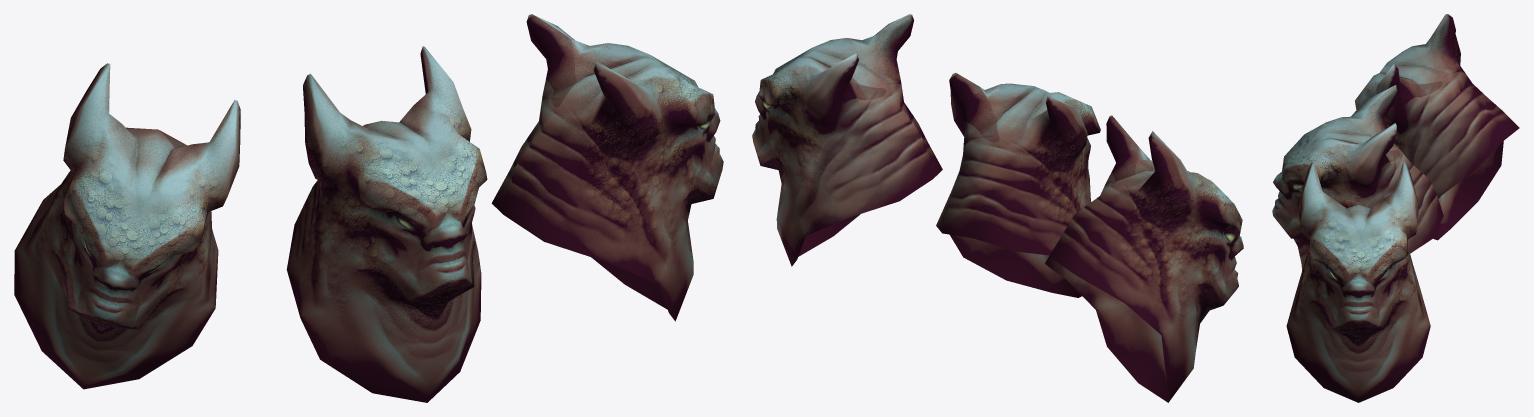
Rendered from ORCO1.fbx.
3 renders of one model, left to right at view 1: azimuth 30°, elevation 25°; view 2: azimuth 150°, elevation 25°; view 3: azimuth 270°, elevation 25°, orthographic. The views are drawn at different scales.
Visible parts, largest first — view 1: Plane.001, Plane.003, Plane.002; view 2: Plane.003, Plane.002, Plane.001; view 3: Plane.002, Plane.003, Plane.001.
Boxes of the visible parts, left/top/right/bottom form: Plane.001: left=286, top=46, right=487, bottom=402; Plane.003: left=14, top=63, right=240, bottom=389; Plane.002: left=491, top=14, right=723, bottom=321; Plane.003: left=1045, top=115, right=1243, bottom=402; Plane.002: left=752, top=14, right=942, bottom=266; Plane.001: left=936, top=72, right=1100, bottom=297; Plane.002: left=1286, top=161, right=1430, bottom=402; Plane.003: left=1355, top=14, right=1519, bottom=240; Plane.001: left=1272, top=85, right=1443, bottom=270.
Bounding box in the file's own units: 1412 × 707 × 712.
1 material, 1 textured.
